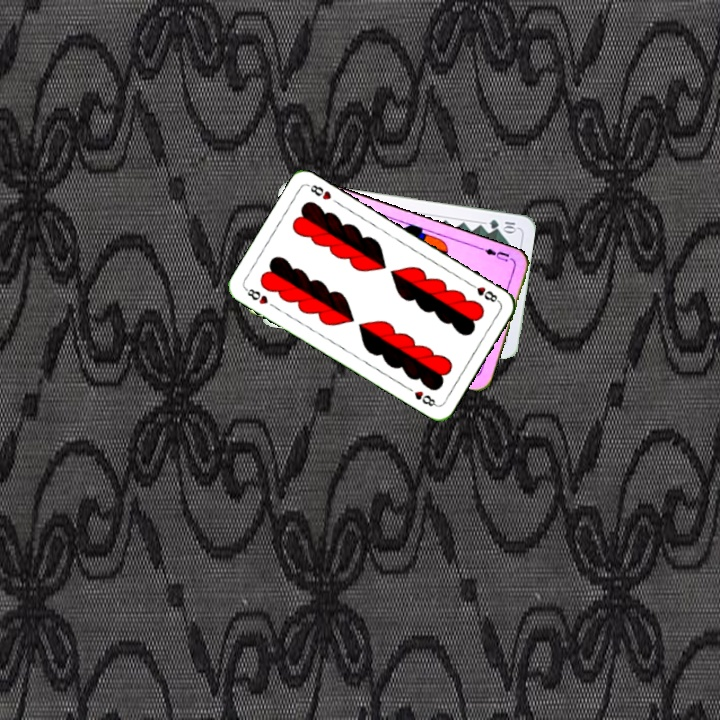EU: (477, 243, 512, 264)
G10: (485, 215, 519, 234)
H8: (465, 279, 502, 305), (241, 284, 271, 307)
